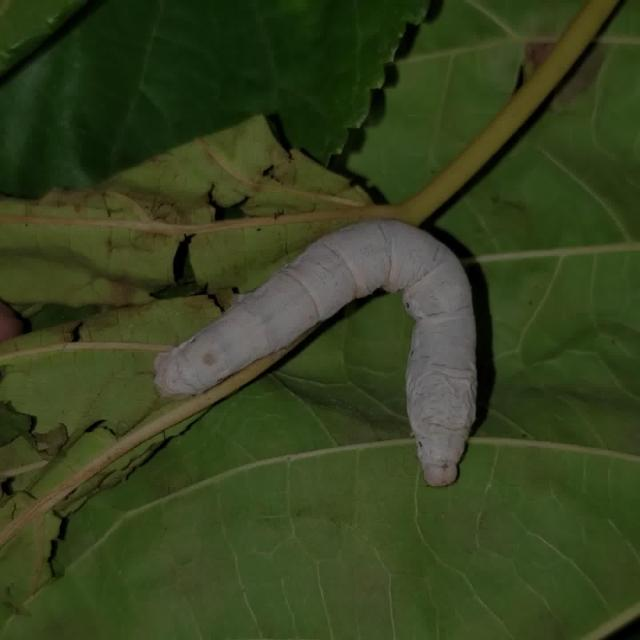Healthy: (142, 193, 530, 503)
